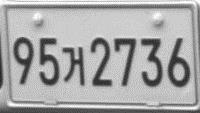2: (89, 36, 112, 86)
3: (140, 37, 163, 87)
5: (38, 37, 60, 85)
6: (166, 37, 191, 87)
7: (113, 37, 137, 87)
9: (12, 36, 34, 84)
거: (61, 46, 84, 85)
